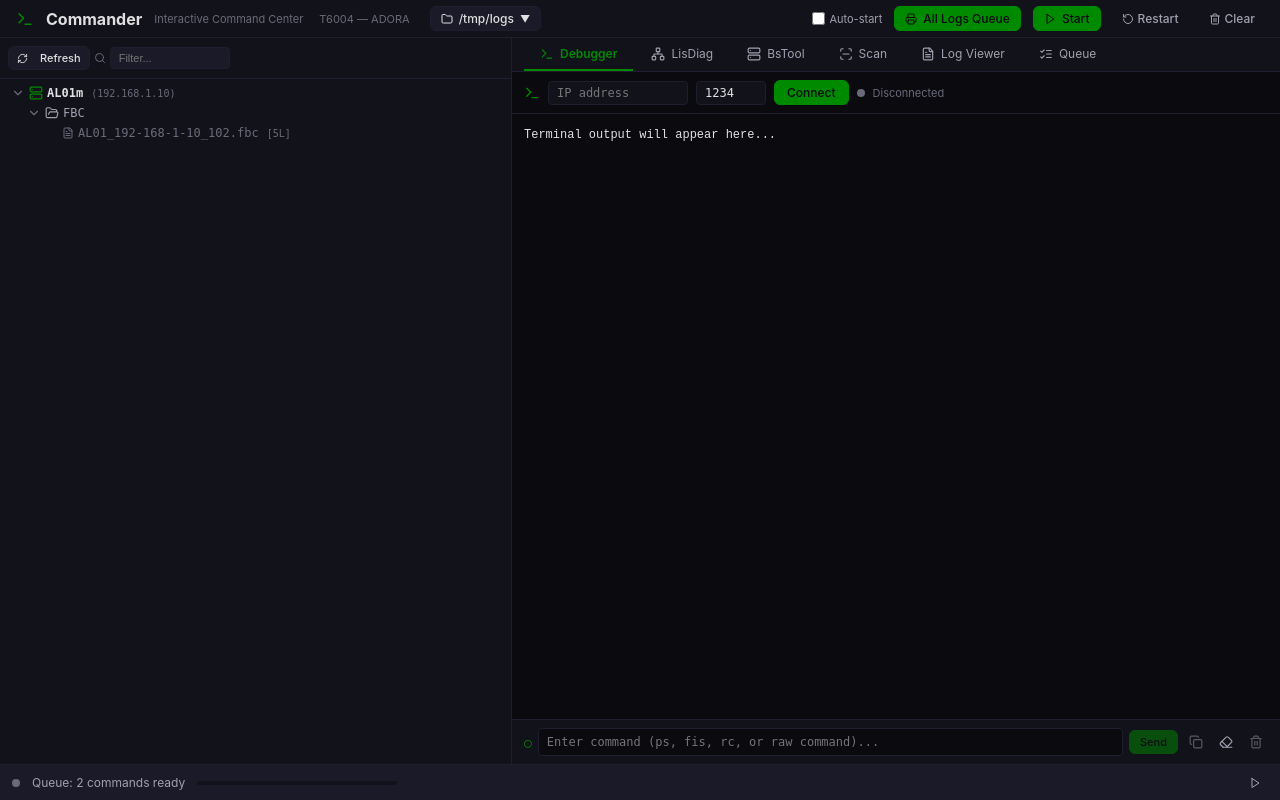
it: CommanderLayout › switches to BsTool tab when clicked
The image size is (1280, 800).
Check: the button "Debugger" is shown, box [524,38,634,71]
Click the button "BsTool" at (776, 54), box [731,38,821,71]
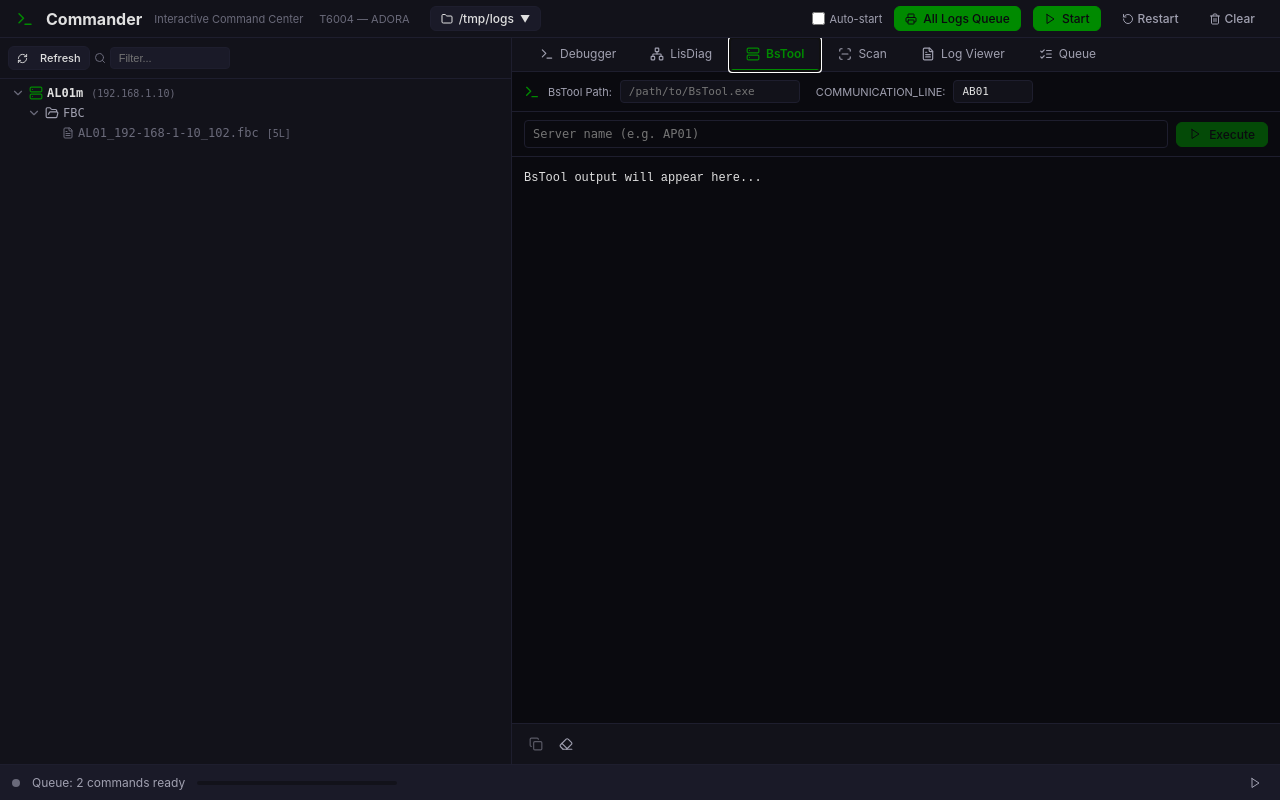
Check: the field with placeholder "Server name (e.g. AP01)" is shown, box [524,120,1168,148]
